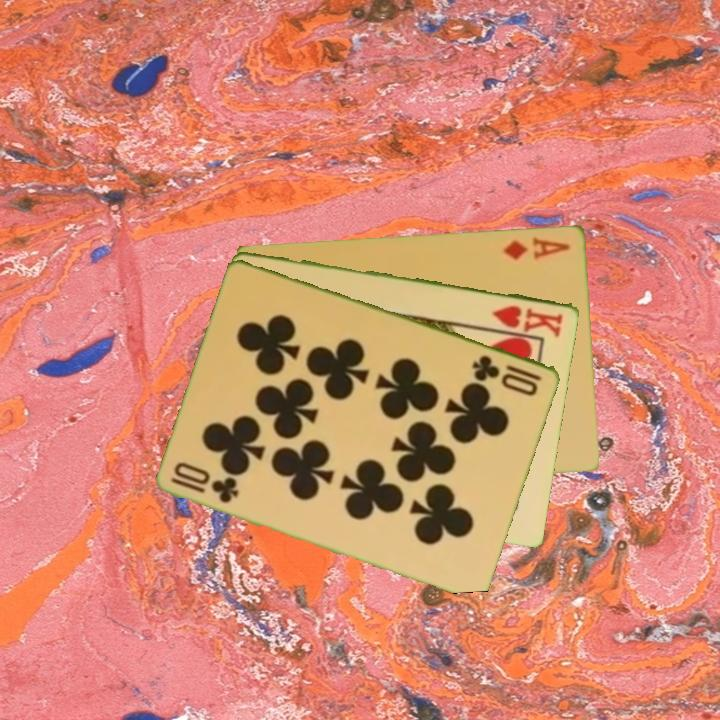10c: (469, 351, 546, 399), (168, 473, 243, 506)
Ad: (500, 233, 573, 262)
Kh: (489, 301, 566, 339)
